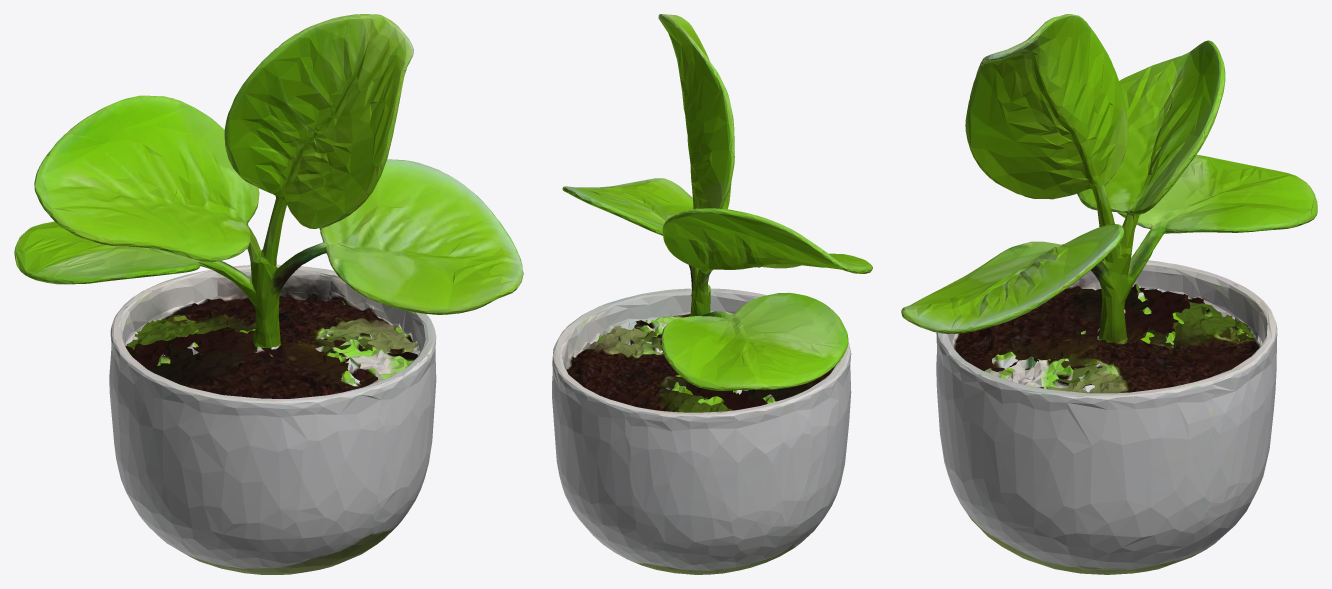
Rendered from biomechanical-growth-planter-generated-2026-04-18T02-42-42-855Z.low.glb.
The picture shows the model from 3 angles, left to right: view 1: azimuth 30°, elevation 25°; view 2: azimuth 150°, elevation 25°; view 3: azimuth 270°, elevation 25°; orthographic projection. The views are drawn at different scales.
Parts seen in each view (by area): view 1: temp_mesh.ply; view 2: temp_mesh.ply; view 3: temp_mesh.ply.
Part boxes in pixels (x1,y1,x2,y2): temp_mesh.ply: (14, 14, 523, 574); temp_mesh.ply: (552, 14, 872, 574); temp_mesh.ply: (901, 14, 1317, 574).
Bounding box in the file's own units: 1.48 × 1.97 × 1.34.
1 material, 1 textured.
